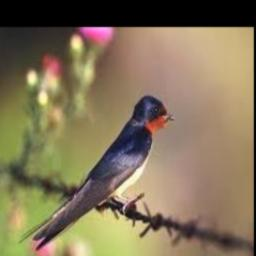Swallow: (18, 97, 175, 251)
